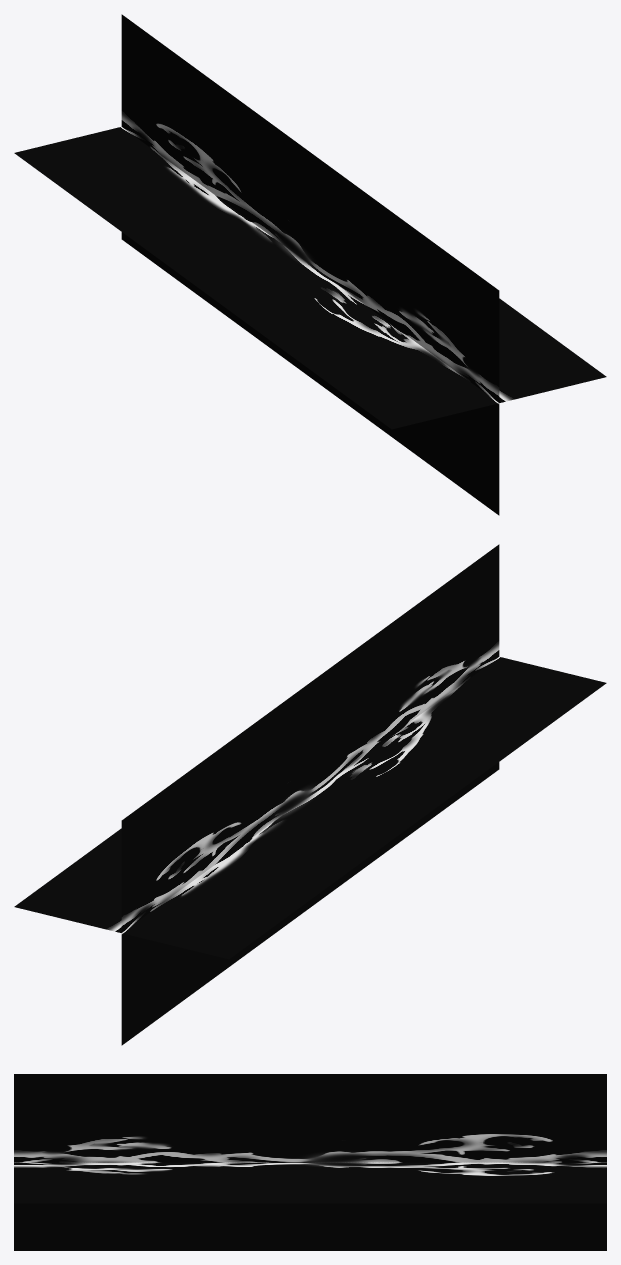
File: FireCrossPlane.fbx
The picture shows the model from 3 angles, top to bottom: view 1: azimuth 30°, elevation 25°; view 2: azimuth 150°, elevation 25°; view 3: azimuth 270°, elevation 25°; orthographic projection. The views are drawn at different scales.
Parts seen in each view (by area): view 1: pasted__CrossPlane2FixPivot; view 2: pasted__CrossPlane2FixPivot; view 3: pasted__CrossPlane2FixPivot.
Boxes of the visible parts, x1=… form: pasted__CrossPlane2FixPivot: x1=14, y1=14, x2=606, y2=515; pasted__CrossPlane2FixPivot: x1=14, y1=544, x2=606, y2=1045; pasted__CrossPlane2FixPivot: x1=14, y1=1074, x2=606, y2=1250.
Bounding box in the file's own units: 44.34 × 44.34 × 135.
Materials: 1 (1 with a texture image).
